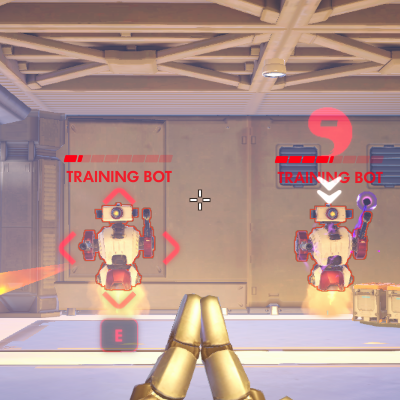hpbar: (63, 154, 173, 163), (274, 155, 384, 164)
